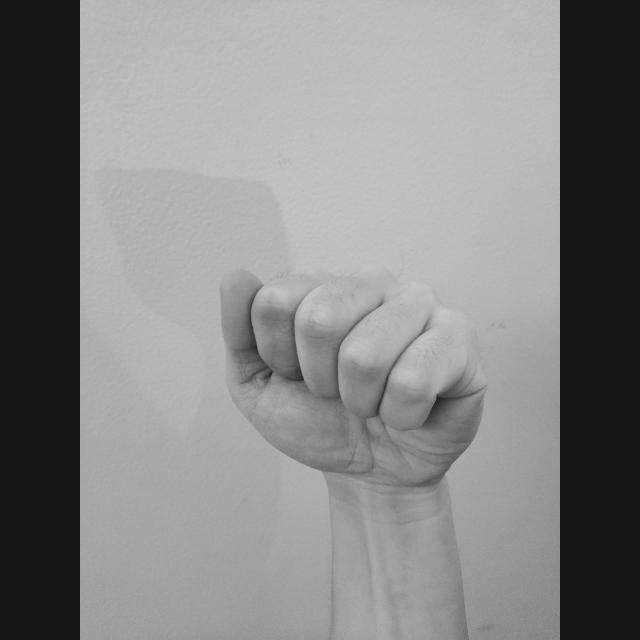A: (210, 254, 498, 496)
